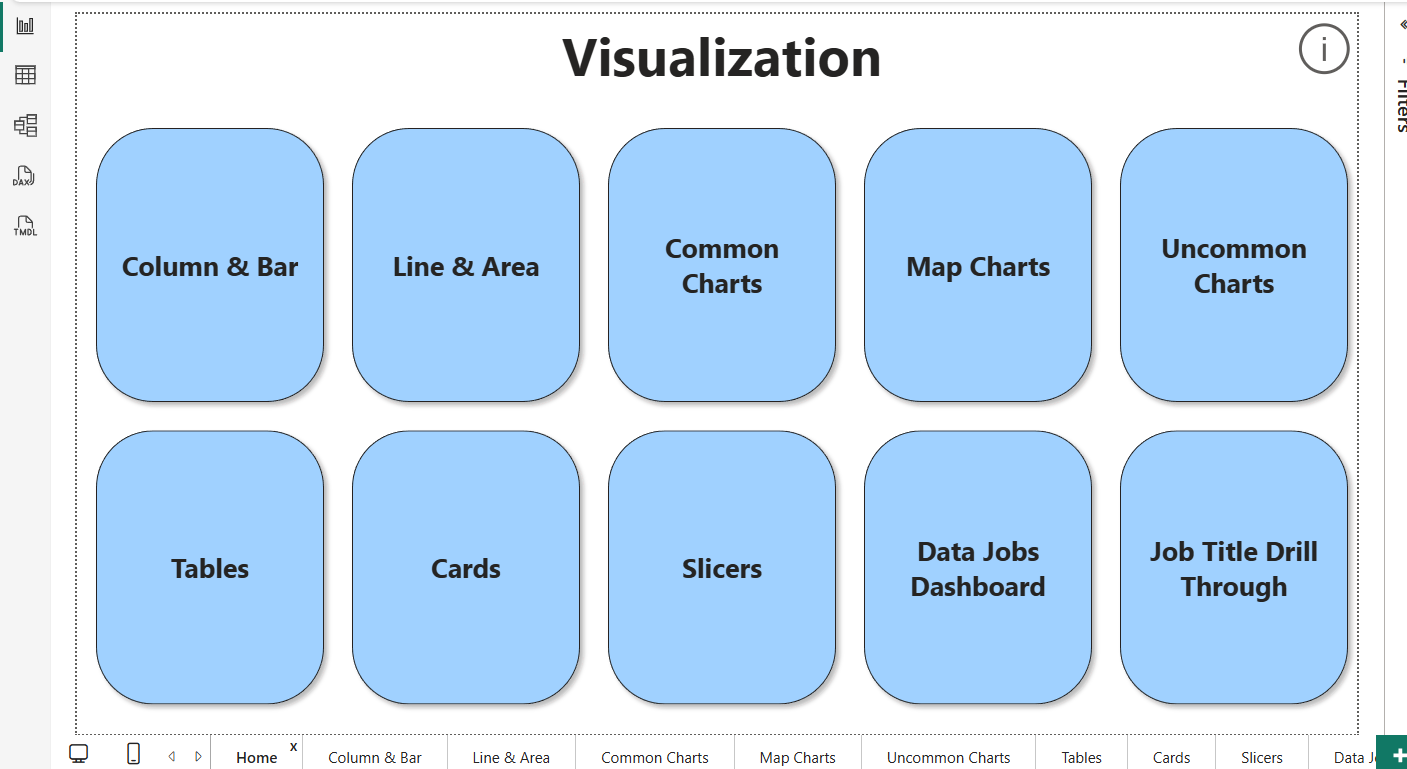

This screenshot's page, from the dashboard's own definition file:
{"tool":"powerbi","page":{"name":"Home","canvas":[1280,720],"ordinal":0},"visuals":[{"type":"textbox","box":[10,0,1270.3,89.6],"z":0},{"type":"pageNavigator","box":[10,104.5,1270.3,596],"z":1000},{"type":"actionButton","box":[1215.3,0,64.7,69.7],"z":2000}]}

Visuals, with their boxes on the page's 1280x720 design canvas (x1, y1, x2, y2). These are canvas units, not pixel positions in the 1407x769 screenshot, which may show the page scaled, cropped or inside an application window:
textbox: {"left": 10, "top": 0, "right": 1280, "bottom": 90}
pageNavigator: {"left": 10, "top": 104, "right": 1280, "bottom": 700}
actionButton: {"left": 1215, "top": 0, "right": 1280, "bottom": 70}
